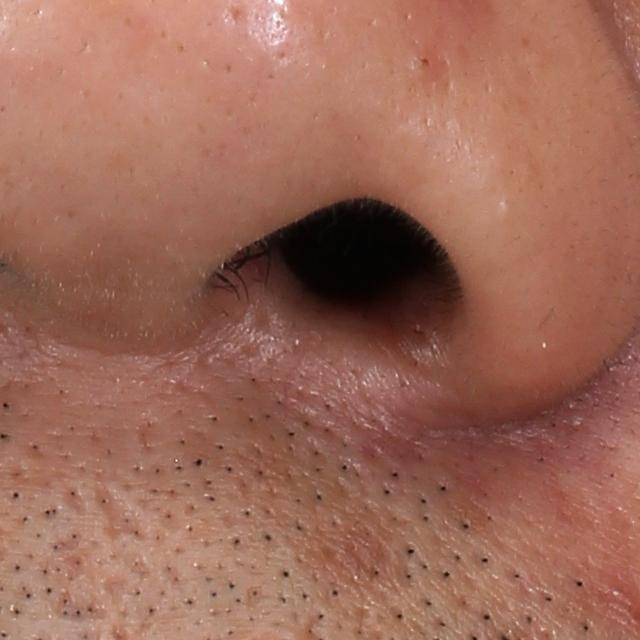atrophic_scar: (87, 463, 151, 547), (51, 586, 119, 627), (100, 574, 141, 612)
comedo: (415, 52, 434, 74)
